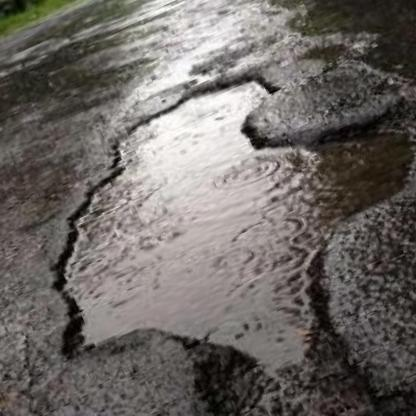pothole: (3, 24, 416, 387)
